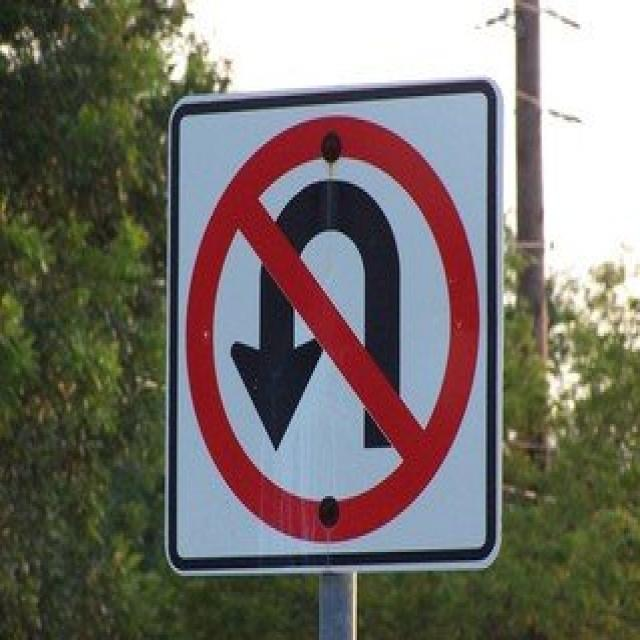no u turn: (178, 108, 482, 550)
